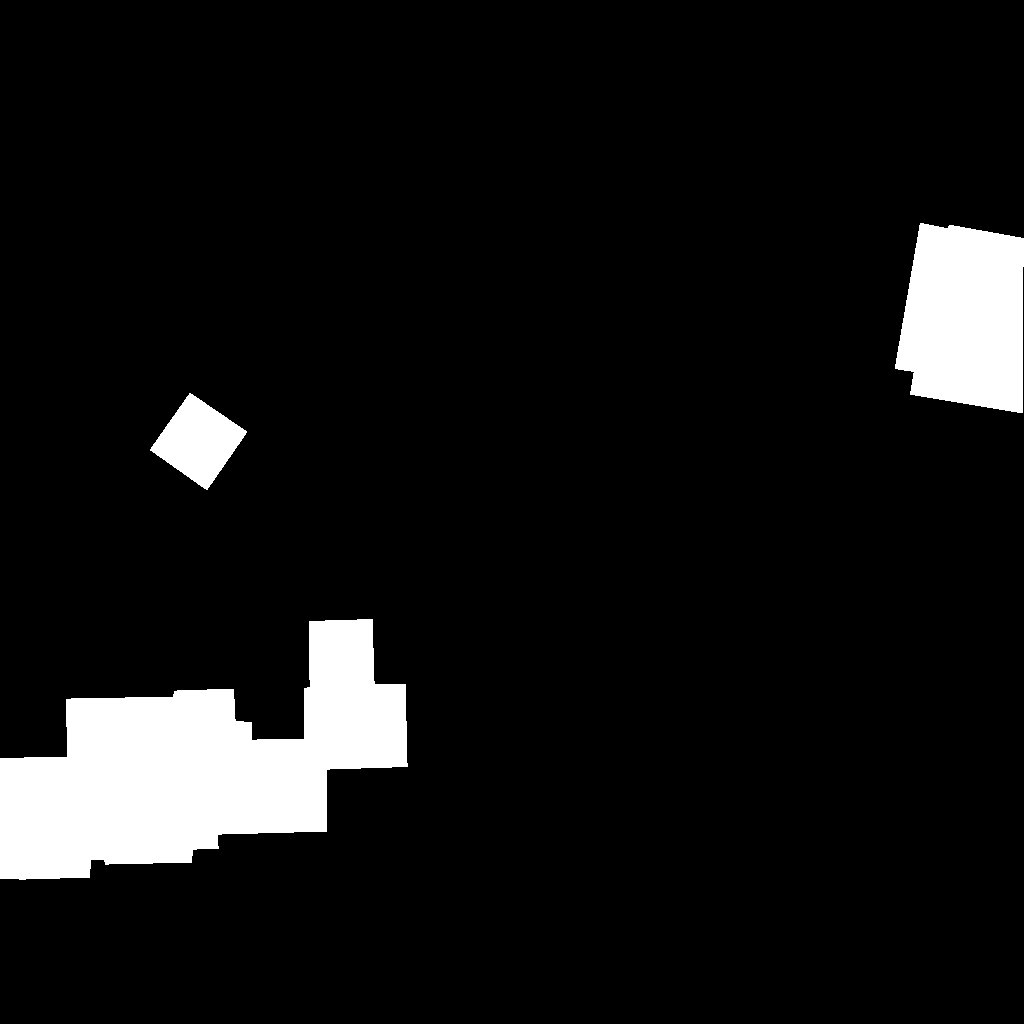building: (0, 619, 408, 880), (895, 223, 1024, 414), (150, 393, 248, 491)
